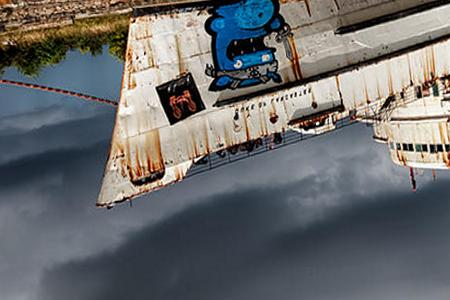rust: (126, 141, 167, 176), (408, 46, 439, 89), (286, 28, 307, 78), (128, 37, 143, 88), (107, 124, 126, 163), (300, 113, 338, 127), (242, 106, 256, 142), (437, 127, 450, 161), (261, 106, 272, 136)
